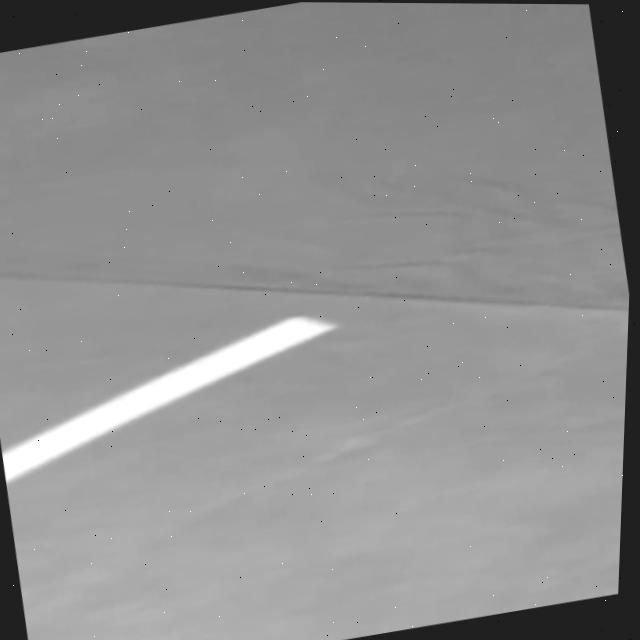center: (1, 316, 336, 483)
